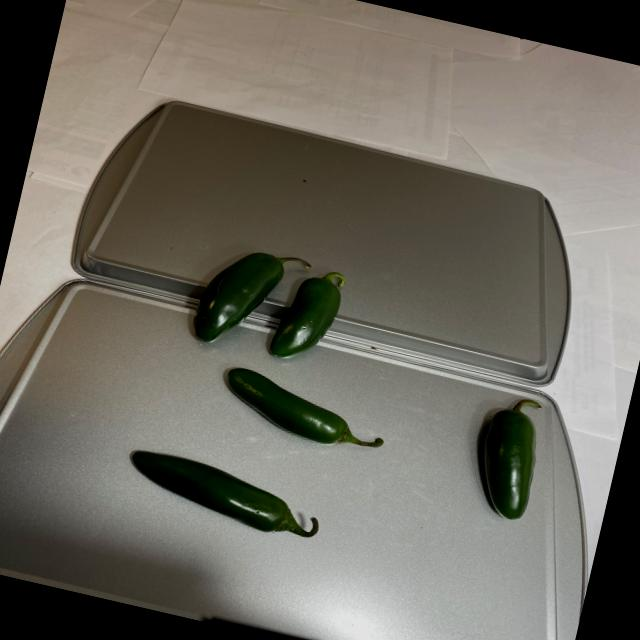chilli: (135, 234, 572, 590)
